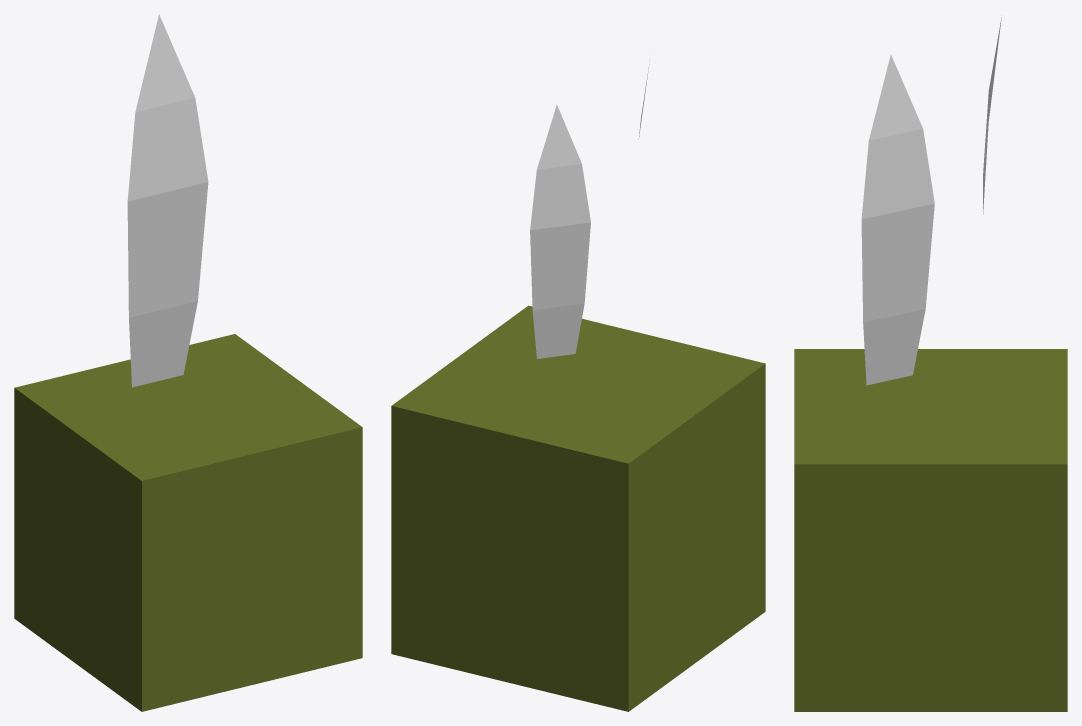
File: GroundEnvironment.glb
The picture shows the model from 3 angles, left to right: view 1: azimuth 30°, elevation 25°; view 2: azimuth 150°, elevation 25°; view 3: azimuth 270°, elevation 25°; orthographic projection. The views are drawn at different scales.
Visible parts, largest first — view 1: Gound Cube, Grass 1; view 2: Gound Cube, Grass 1; view 3: Gound Cube, Grass 1.
Boxes of the visible parts, bbox=[...] form: Gound Cube: bbox=[14, 334, 362, 711]; Grass 1: bbox=[127, 14, 208, 387]; Gound Cube: bbox=[391, 305, 765, 711]; Grass 1: bbox=[530, 60, 649, 358]; Gound Cube: bbox=[794, 349, 1067, 711]; Grass 1: bbox=[861, 15, 1001, 385].
Size of the model in its own units: 1 by 2.59 by 1.
